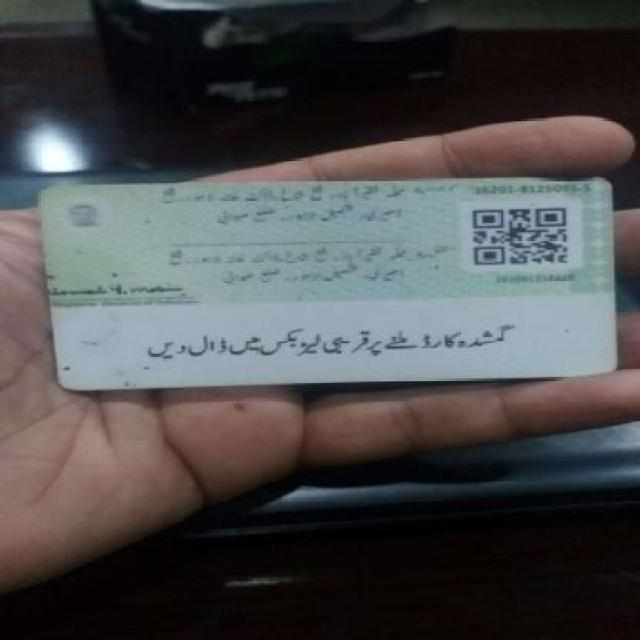Back: (20, 174, 628, 386)
